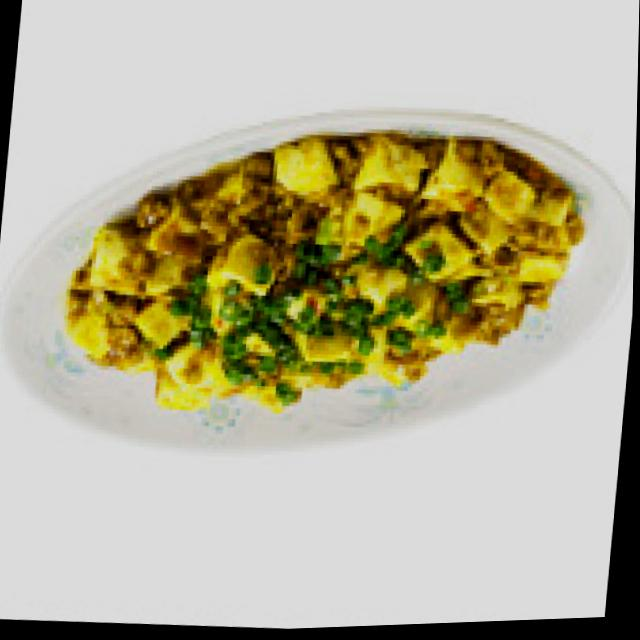豆腐料理: (0, 72, 638, 514)
